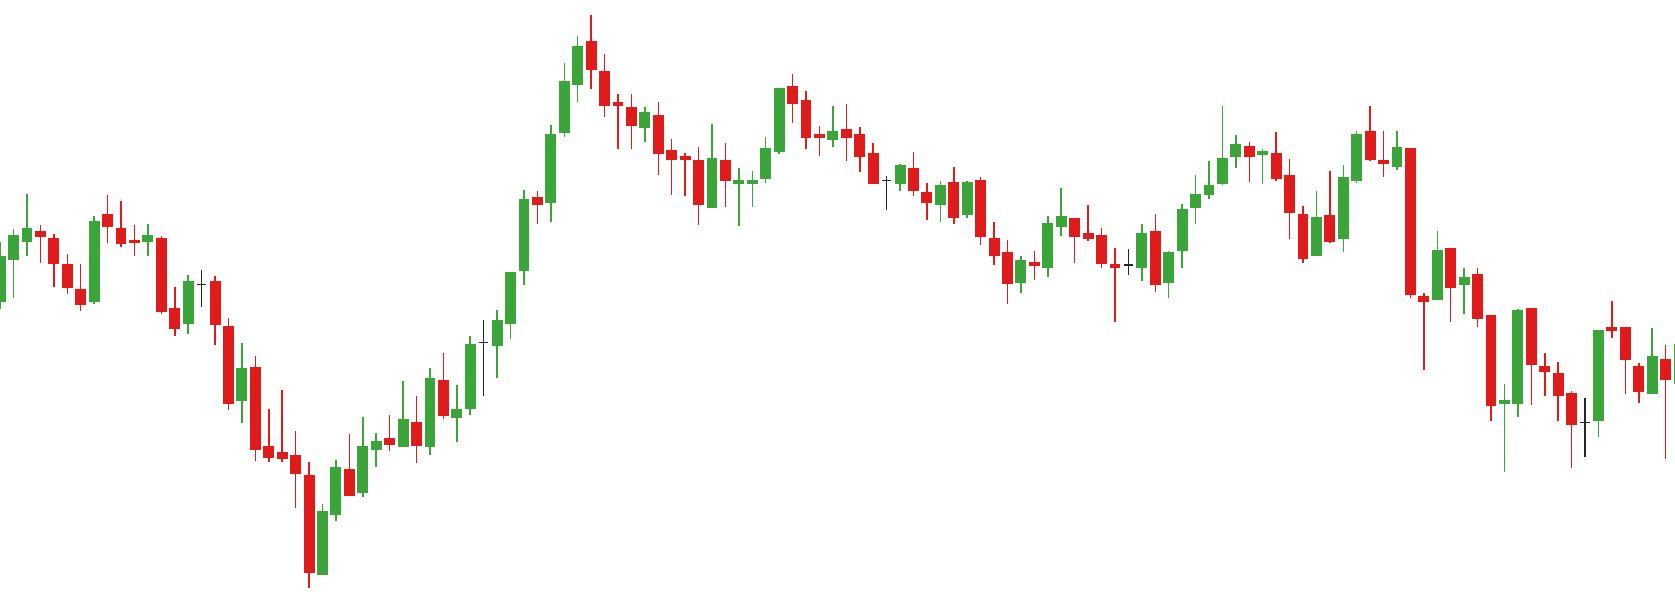buy: (997, 220, 1121, 326)
sell: (1271, 100, 1380, 204)
